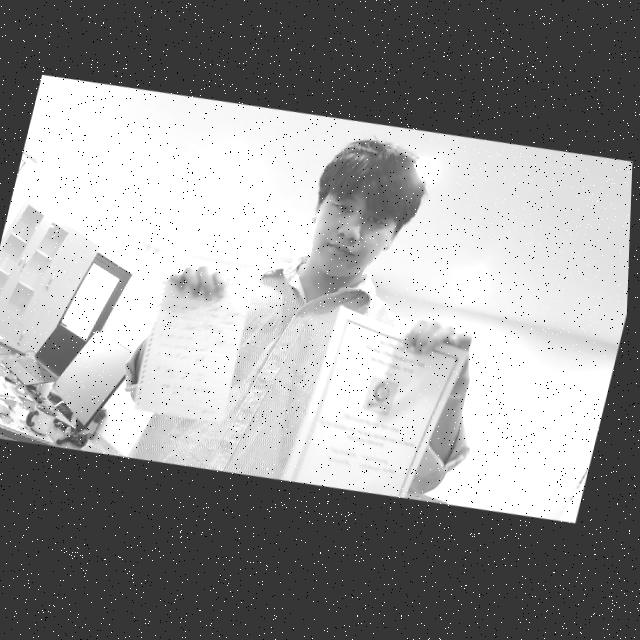document: (282, 307, 469, 497), (130, 278, 251, 421)
face: (302, 183, 397, 280)
